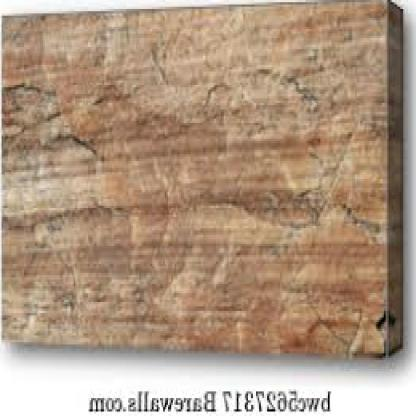Metamorphic_Quartize: (1, 0, 407, 350)
